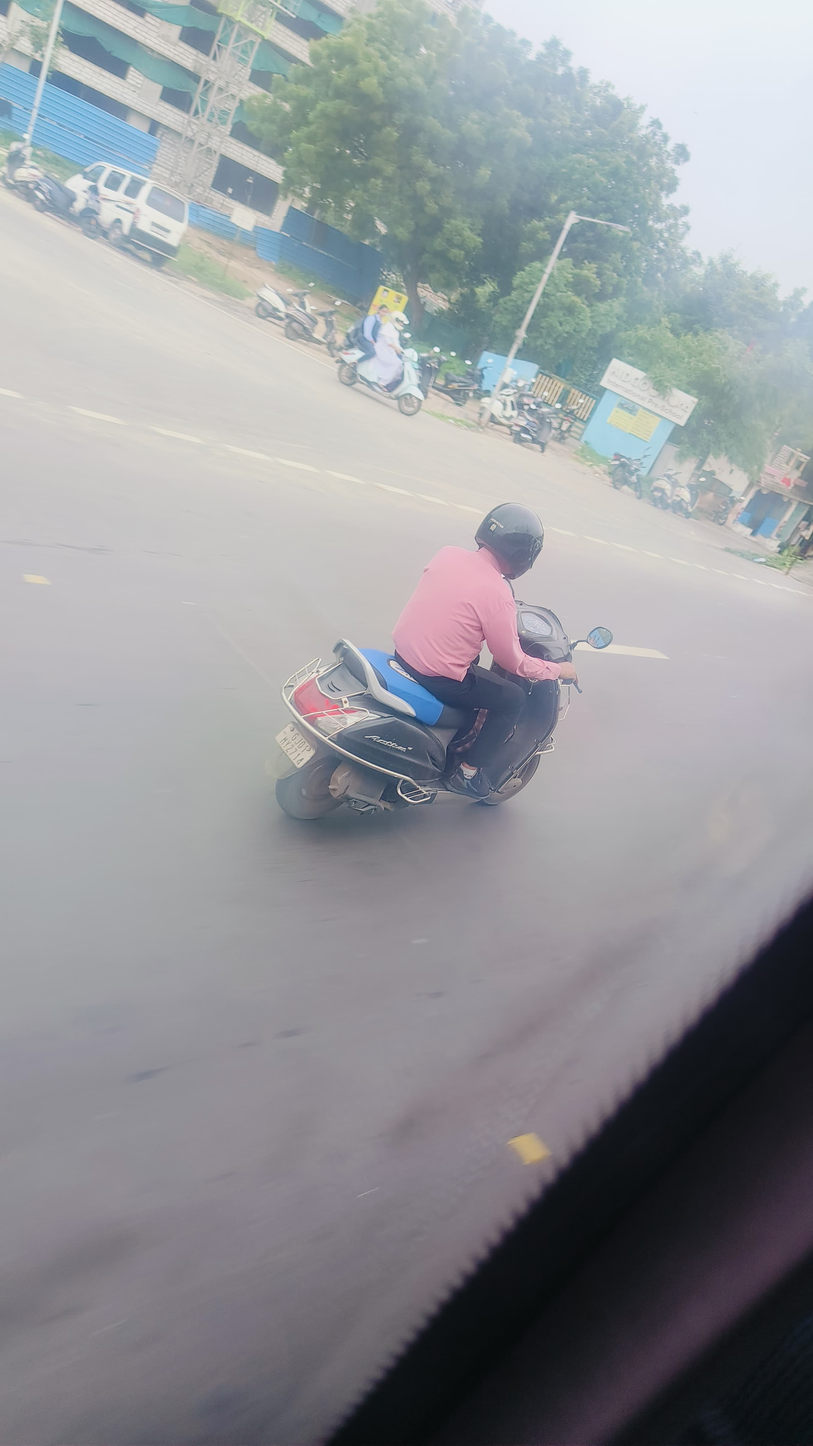BikeWithRider: (253, 493, 634, 843)
Helmet: (469, 498, 548, 583)
